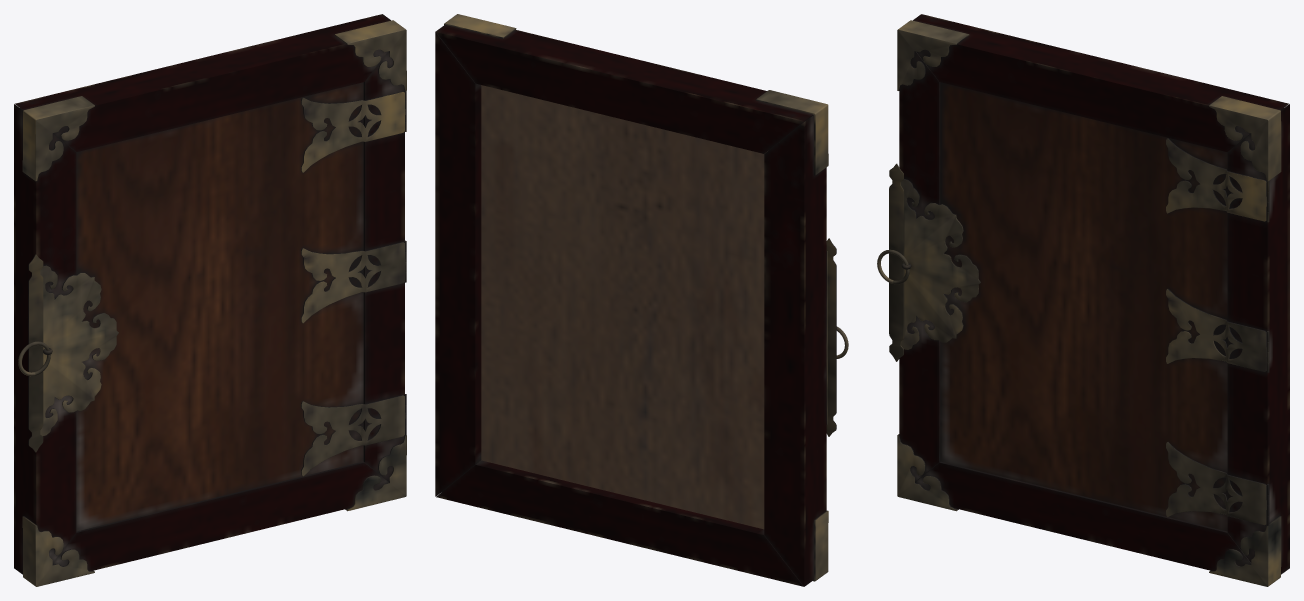
The model's file is SM_Cabinet240_doorBR.fbx.
3 renders of one model, left to right at view 1: azimuth 30°, elevation 25°; view 2: azimuth 150°, elevation 25°; view 3: azimuth 330°, elevation 25°, orthographic.
Parts seen in each view (by area): view 1: SM_Cabinet240_doorBR; view 2: SM_Cabinet240_doorBR; view 3: SM_Cabinet240_doorBR.
Part boxes in pixels (x1,y1,x2,y2): SM_Cabinet240_doorBR: (14,14,406,586); SM_Cabinet240_doorBR: (435,14,848,586); SM_Cabinet240_doorBR: (877,14,1289,586).
Size of the model in its own units: 25.34 by 29.03 by 3.01.
Materials: 1 (1 with a texture image).
